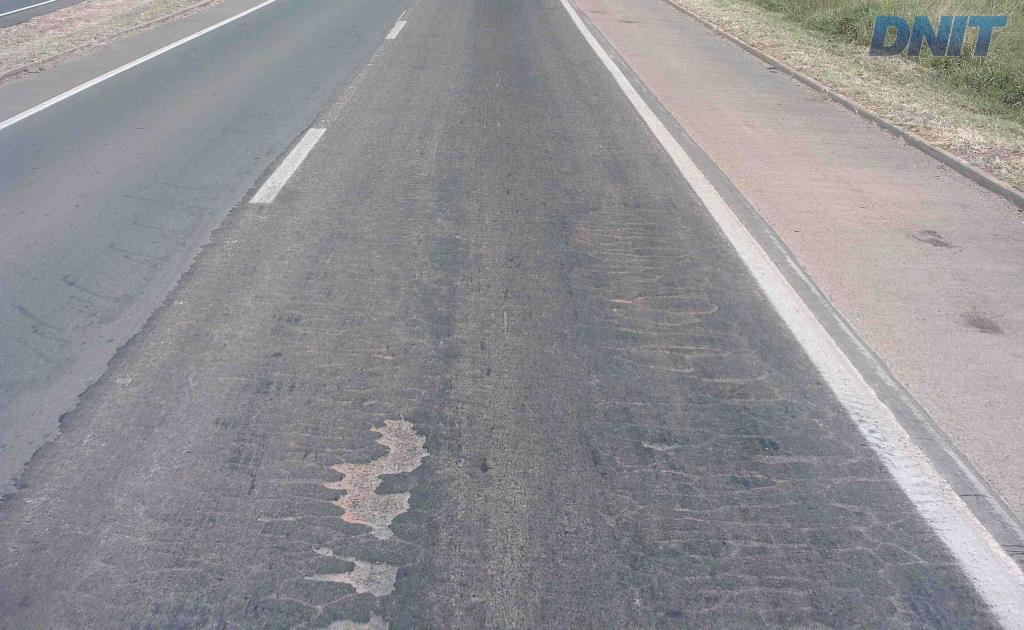pothole: (316, 407, 434, 545), (298, 541, 401, 600)
